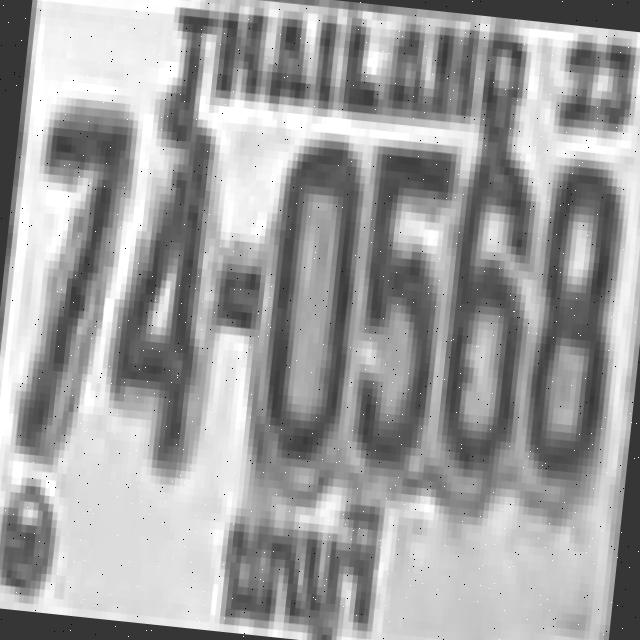0: (247, 128, 364, 462)
4: (96, 89, 222, 462)
5: (343, 137, 455, 464)
6: (428, 142, 536, 476)
7: (10, 92, 136, 450)
8: (514, 152, 624, 501)
Chonburi: (199, 490, 404, 640)
